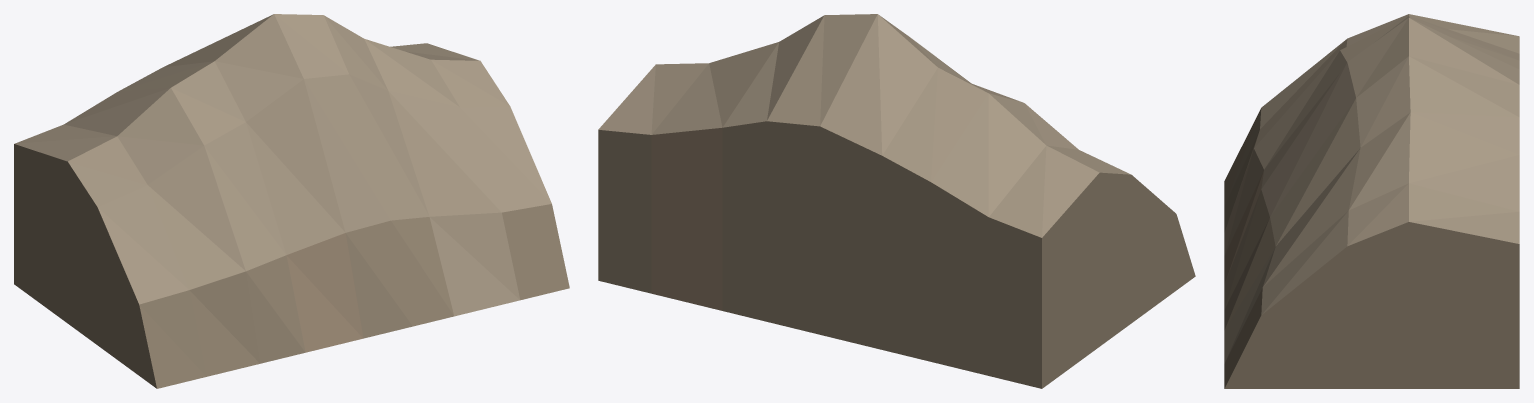
The model's file is coast_rock_straight_high.glb.
3 views of the same model, side by side, from view 1: azimuth 30°, elevation 25°; view 2: azimuth 150°, elevation 25°; view 3: azimuth 270°, elevation 25° (orthographic). The views are drawn at different scales.
Parts seen in each view (by area): view 1: coast_rock_straight_high; view 2: coast_rock_straight_high; view 3: coast_rock_straight_high.
Boxes of the visible parts, <box> form: coast_rock_straight_high: <box>14,14,569,388</box>; coast_rock_straight_high: <box>598,14,1195,388</box>; coast_rock_straight_high: <box>1224,14,1519,388</box>.
Size of the model in its own units: 2 by 1.2 by 1.2.
